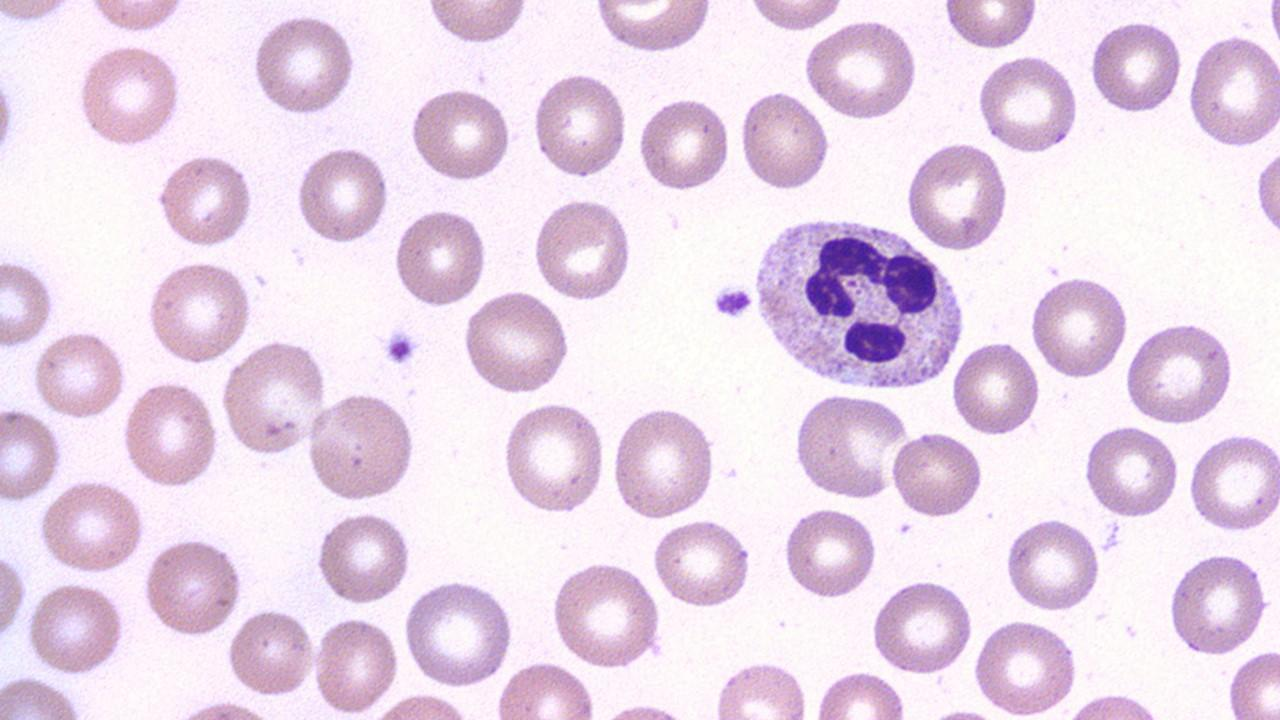Platelets: (708, 280, 758, 322), (382, 327, 422, 367), (1102, 520, 1122, 550)
RBC: (818, 314, 1266, 720), (790, 390, 912, 502), (218, 337, 329, 459), (608, 402, 720, 521), (304, 388, 418, 504), (499, 398, 606, 518), (800, 16, 922, 121), (401, 577, 516, 688), (548, 559, 662, 670), (903, 138, 1013, 253), (1122, 320, 1238, 426), (143, 256, 254, 366), (249, 10, 359, 119), (74, 42, 186, 149), (1165, 550, 1275, 658), (462, 290, 572, 396), (1185, 30, 1280, 149), (120, 378, 220, 491), (406, 82, 514, 186), (1028, 271, 1130, 381), (529, 69, 628, 182), (974, 53, 1082, 155), (971, 618, 1083, 716), (141, 534, 244, 640), (532, 196, 634, 302), (870, 576, 976, 678), (36, 478, 147, 574), (154, 150, 257, 252), (390, 206, 490, 310), (293, 142, 391, 247), (736, 87, 832, 194), (26, 579, 128, 678), (1185, 430, 1280, 536), (1080, 422, 1182, 520), (312, 509, 415, 606), (1004, 514, 1102, 614), (948, 336, 1042, 440), (650, 516, 754, 610), (1087, 16, 1183, 117), (781, 505, 879, 603), (636, 95, 732, 194), (311, 612, 401, 714), (223, 605, 319, 700), (888, 429, 986, 522), (30, 329, 128, 421), (592, 1, 712, 57), (708, 656, 813, 718), (0, 403, 64, 504), (493, 658, 599, 716), (0, 254, 56, 349), (941, 1, 1040, 52), (421, 2, 533, 46), (810, 668, 910, 717), (1224, 644, 1280, 719), (78, 1, 193, 32), (743, 0, 850, 32), (1251, 133, 1279, 252), (0, 541, 28, 651), (0, 0, 82, 26)
WBC: (30, 0, 801, 456), (744, 210, 967, 398)
